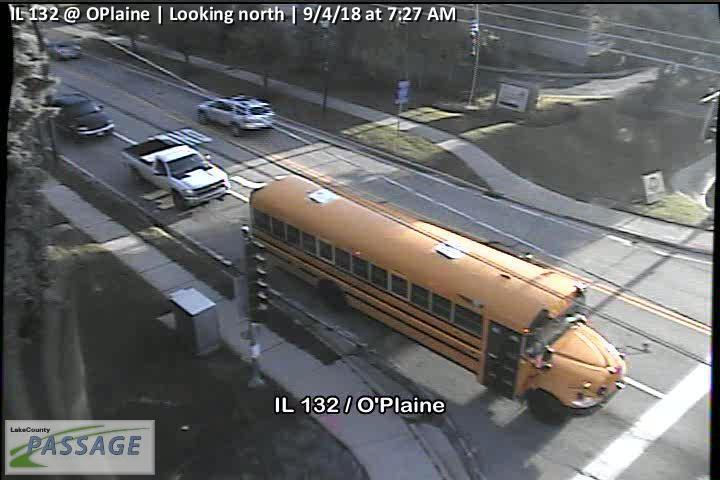Bus: (249, 174, 627, 424)
SUV: (197, 94, 276, 138)
Sedan: (46, 93, 115, 144), (49, 40, 80, 59)
Truck: (120, 137, 231, 212)
